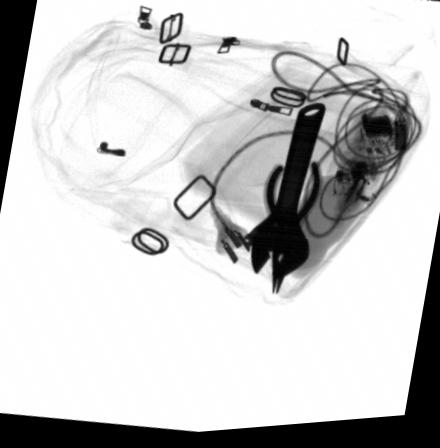Pliers: (263, 163, 322, 299)
Wrench: (241, 105, 325, 283)
